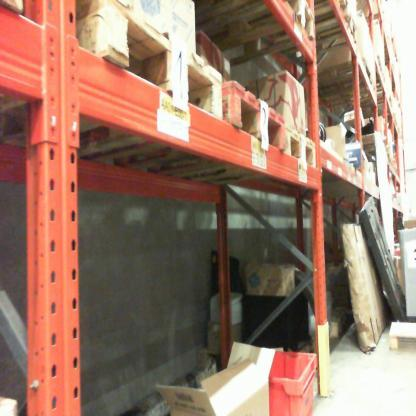pallets: (63, 5, 319, 177)
